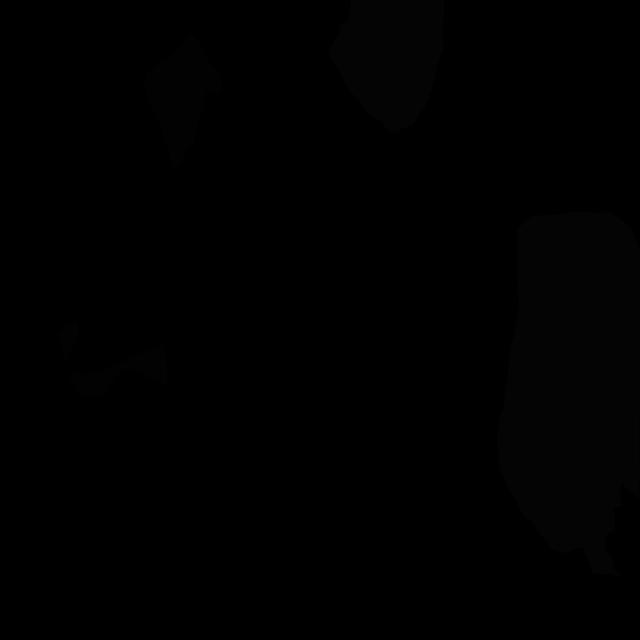cardboard: (144, 34, 222, 170), (69, 345, 168, 396), (58, 321, 79, 361)
soft_plastic: (497, 210, 640, 576), (329, 0, 444, 132), (616, 416, 640, 486), (622, 476, 640, 500)
